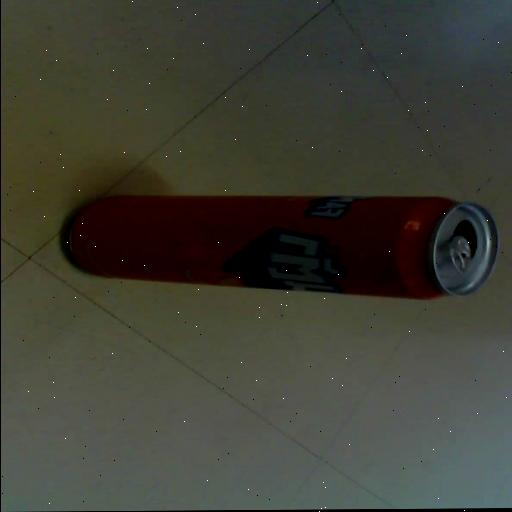canned: (32, 182, 510, 309)
